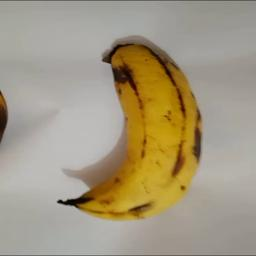Banana Semifresh: (56, 43, 207, 220)
